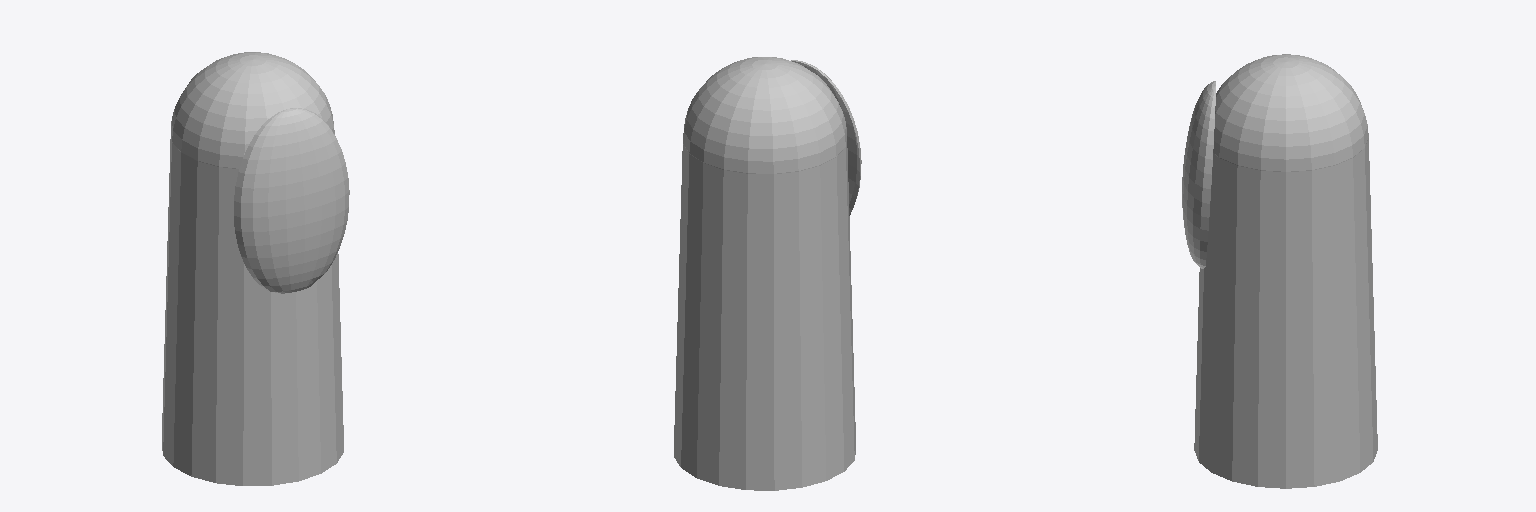
Rendered from alien.obj.
The picture shows the model from 3 angles: view 1: azimuth 30°, elevation 25°; view 2: azimuth 150°, elevation 25°; view 3: azimuth 270°, elevation 25°; orthographic projection.
Visible parts, largest first — view 1: pCylinder10; view 2: pCylinder10; view 3: pCylinder10.
Part boxes in pixels (x1,y1,x2,y2): pCylinder10: (162,52,349,485); pCylinder10: (674,57,861,490); pCylinder10: (1182,54,1377,488).
Size of the model in its own units: 3.27 by 7.62 by 3.48.